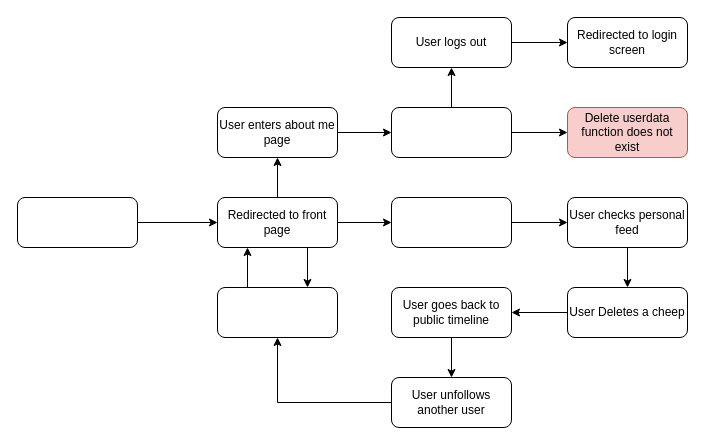
This 705x445 diagram has some shape labels left out. Here are the shapes that lost their labels. From the top down, the box of each, then its label:
(390, 106, 512, 158): User downloads personal information
(16, 196, 138, 248): User enters Chirp! webpage
(390, 196, 512, 248): User follows another user
(216, 286, 338, 338): Public timeline
